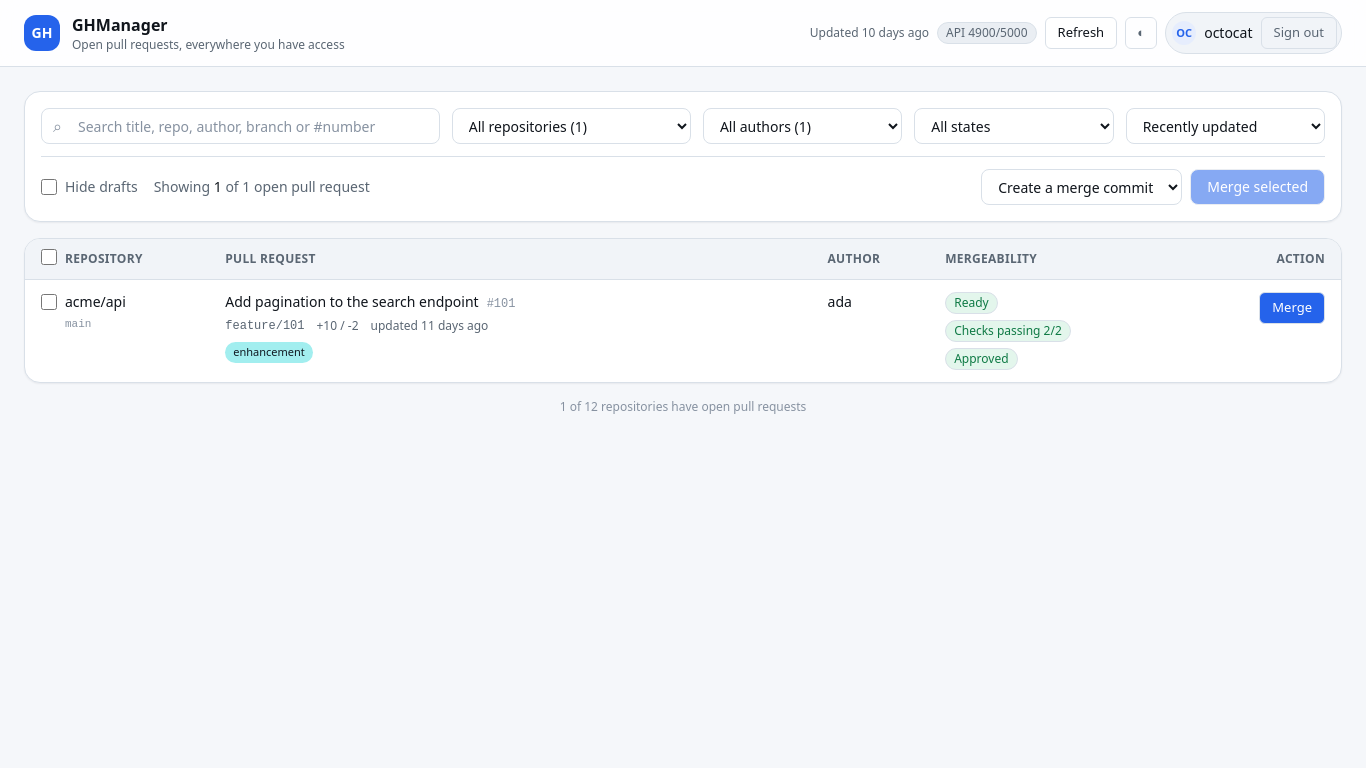
Dashboard data display › shows a filtered empty state that can be cleared
The image size is (1366, 768).
Expected: the table is shown, x1=25 y1=239 x2=1341 y2=382
In the search field named "Search pull requests": [240, 126] box x1=41 y1=108 x2=440 y2=144, type "zzzz-no-match"
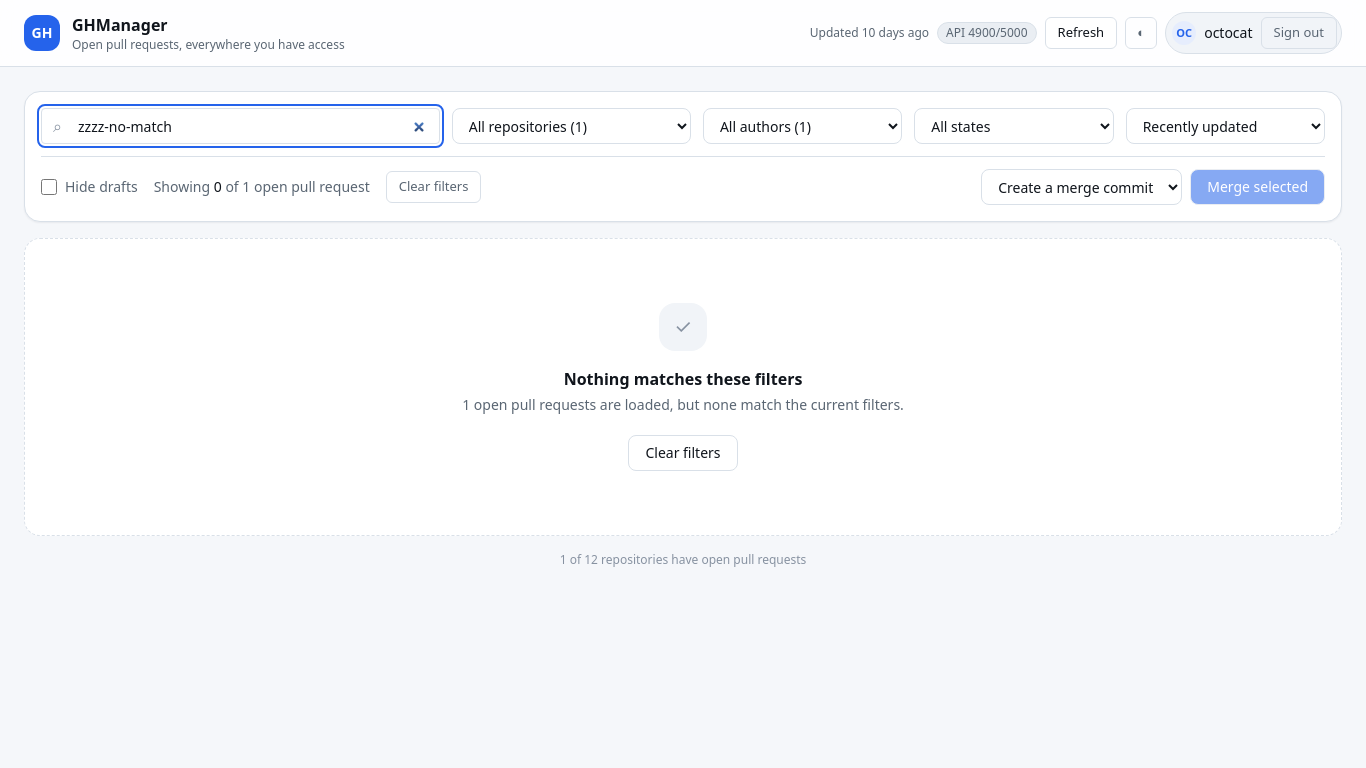
Now the text "Nothing matches these filters" is shown, box x1=564 y1=367 x2=802 y2=391
Click the button "Clear filters" below "Nothing matches these filters": [683, 453] box x1=628 y1=435 x2=738 y2=471
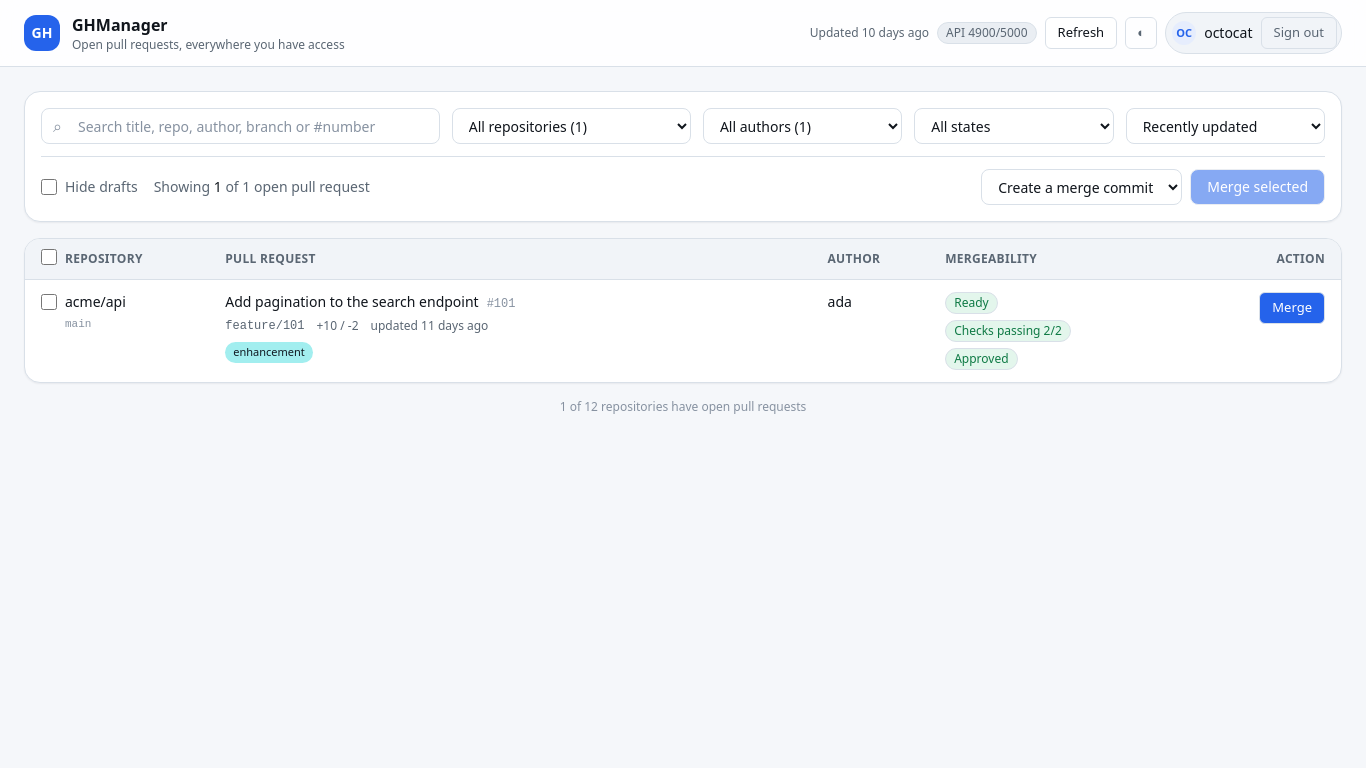
Now the table is shown, box x1=25 y1=239 x2=1341 y2=382
